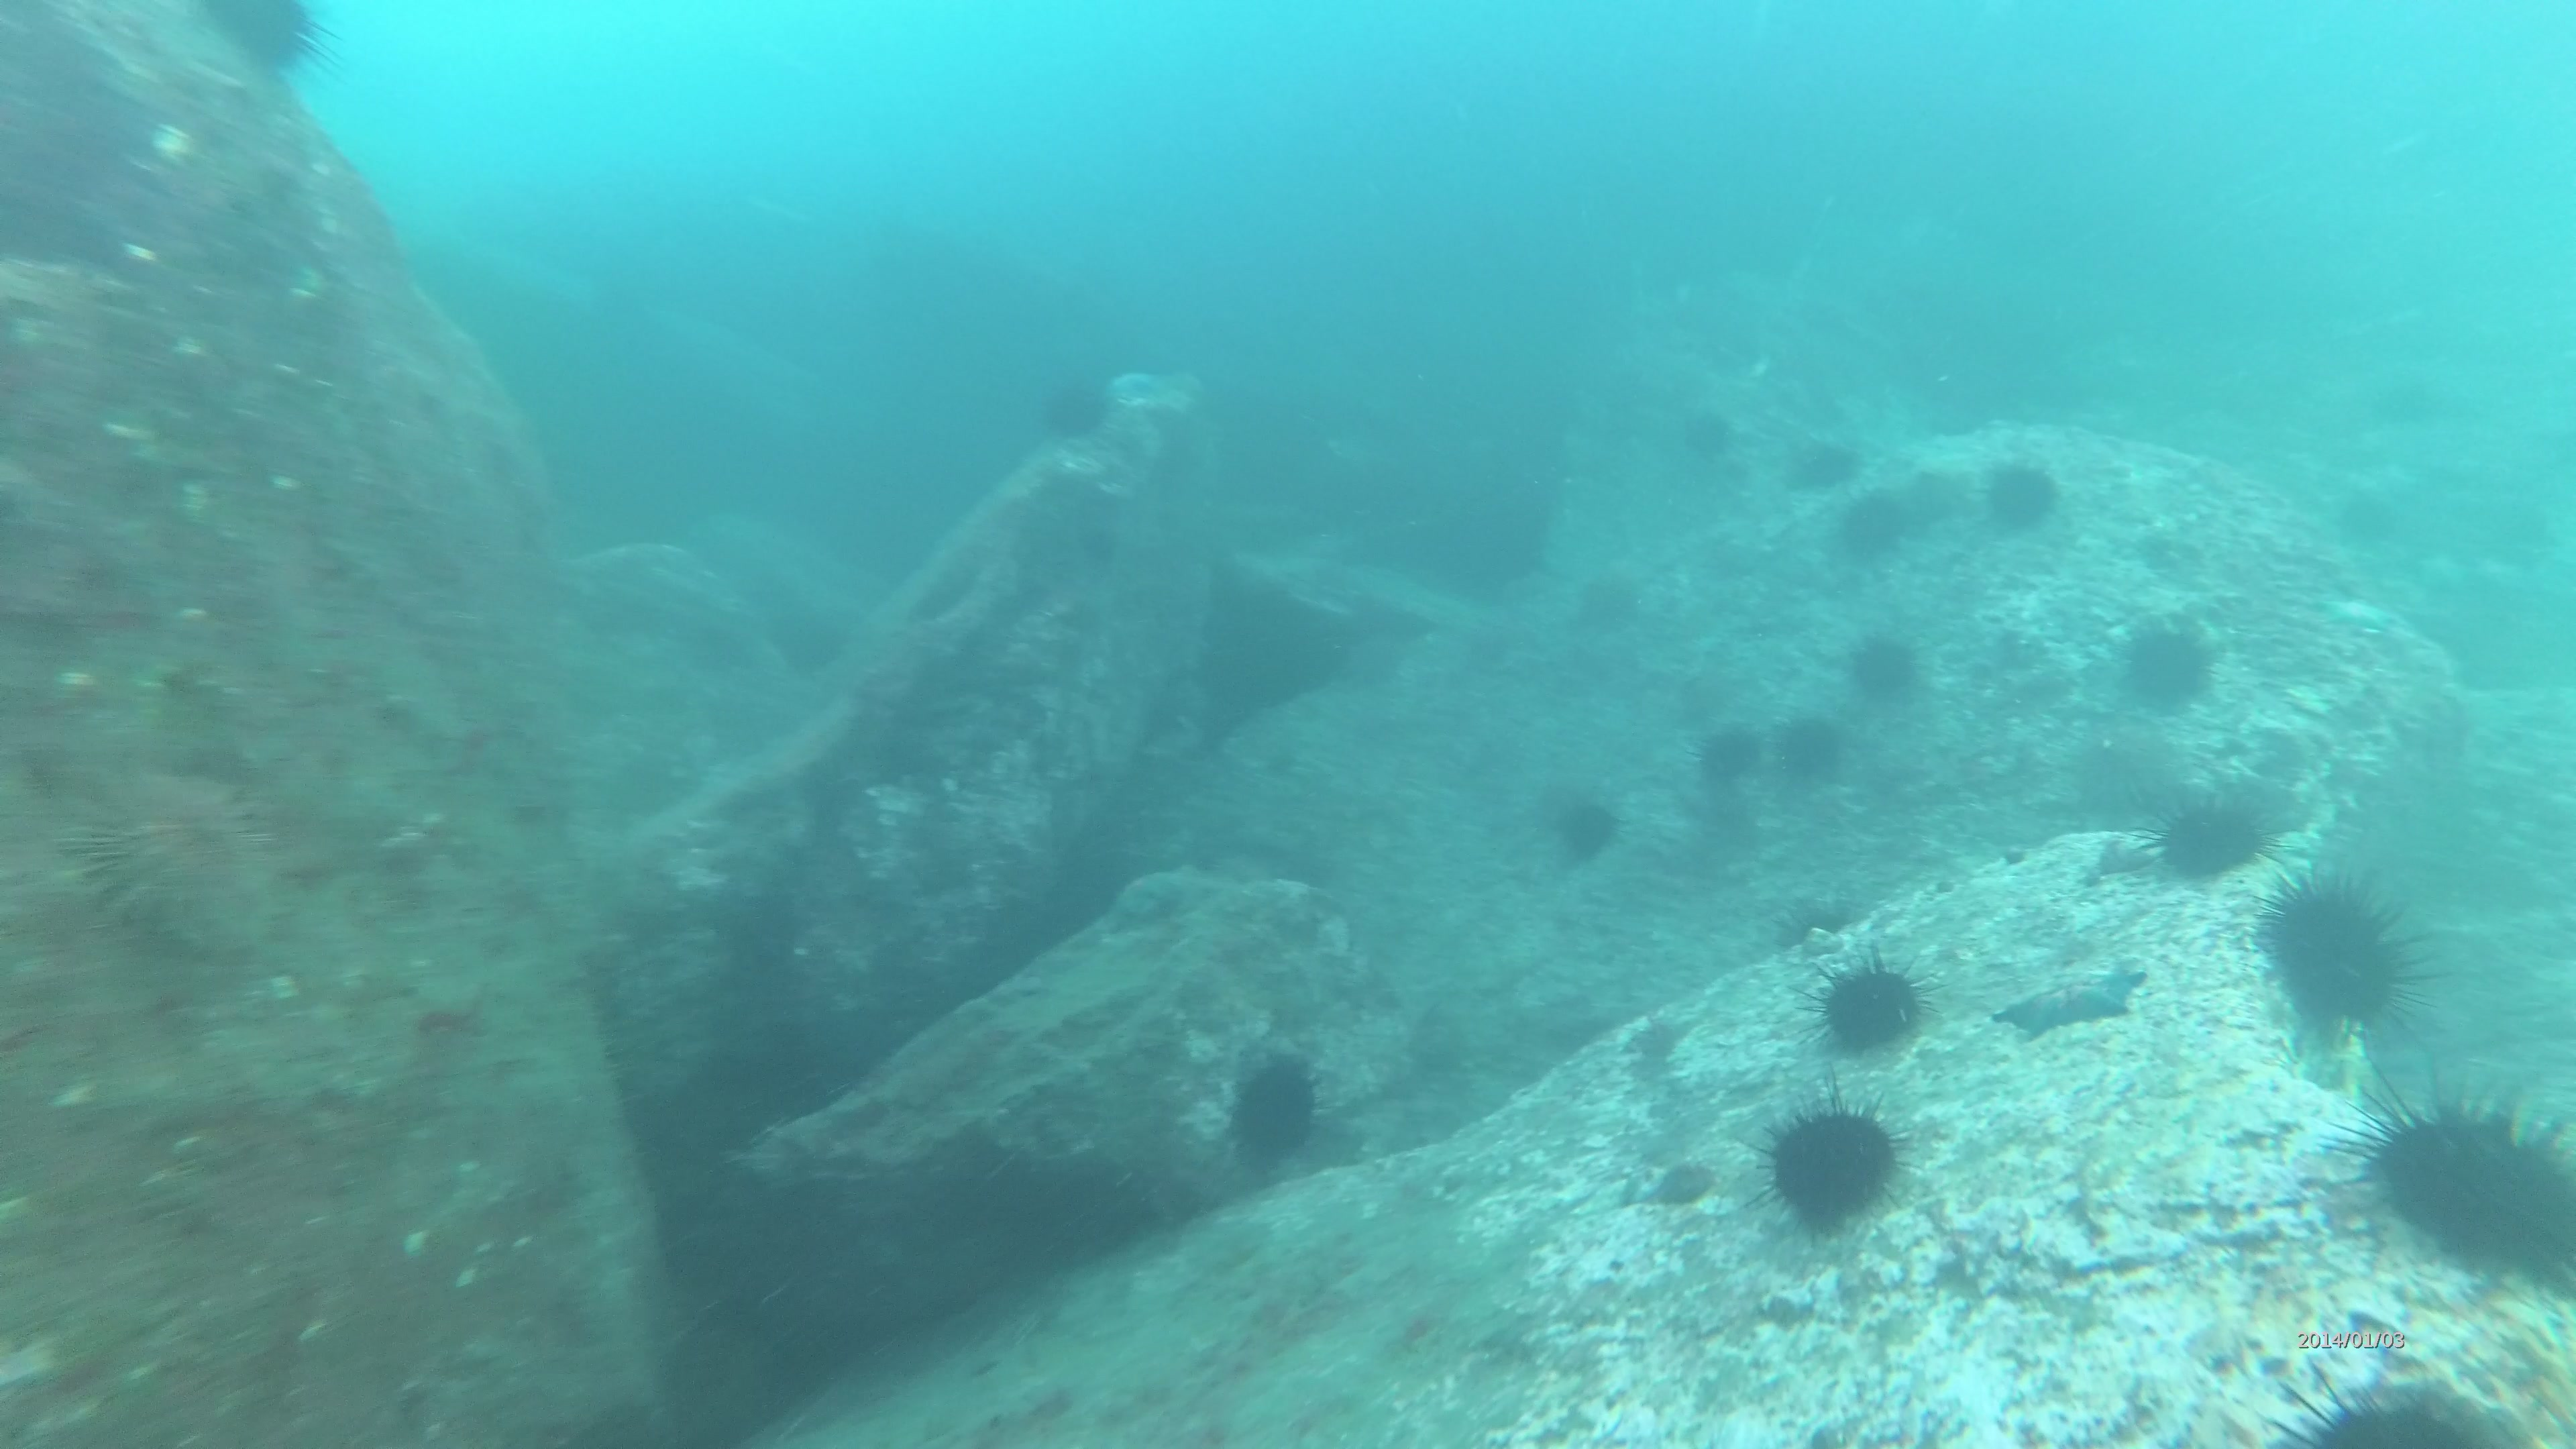echinus: (2323, 1054, 2576, 1307), (2229, 855, 2443, 1051), (1734, 1085, 1920, 1242), (2263, 1353, 2503, 1449), (1780, 936, 1934, 1058), (180, 0, 356, 106), (2127, 794, 2289, 885), (1224, 1049, 1323, 1178), (2116, 619, 2226, 722), (1851, 616, 1928, 718), (1983, 455, 2061, 534), (1684, 725, 1776, 793), (1546, 794, 1628, 856), (1775, 717, 1845, 780), (1576, 566, 1644, 632)
starfish: (1992, 964, 2148, 1046)
